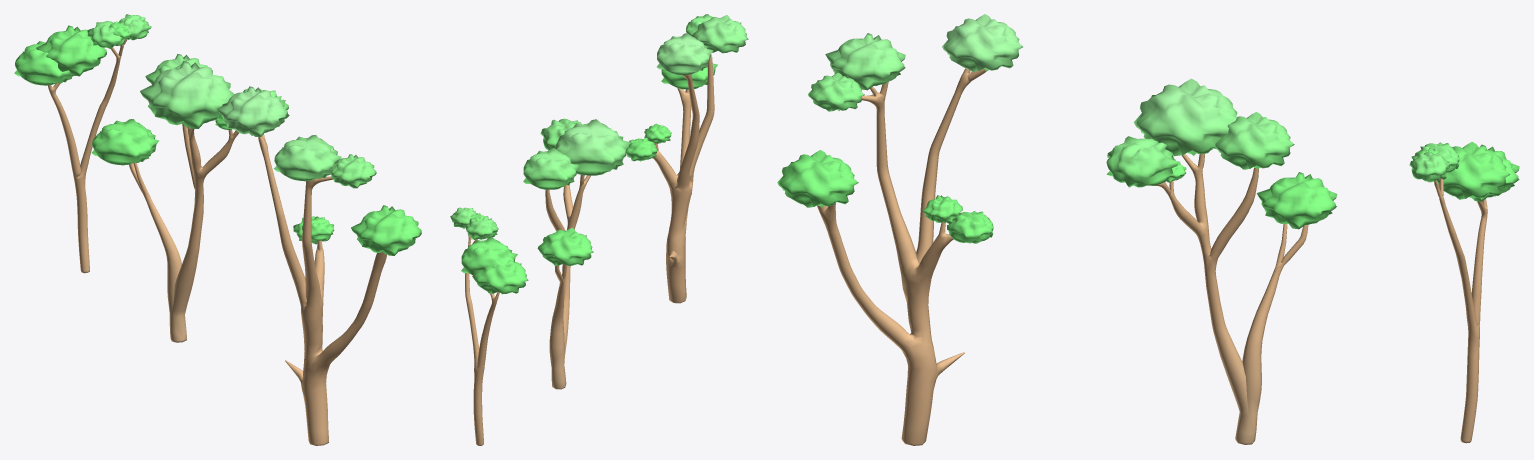
Rendered from Map3_bo6.fbx.
The picture shows the model from 3 angles, left to right: view 1: azimuth 30°, elevation 25°; view 2: azimuth 150°, elevation 25°; view 3: azimuth 270°, elevation 25°; orthographic projection. The views are drawn at different scales.
Visible parts, largest first — view 1: Tree.004, Tree.005, Tree.016; view 2: Tree.004, Tree.005, Tree.016; view 3: Tree.004, Tree.005, Tree.016.
Boxes of the visible parts, x1,y1,x2,y2 form: Tree.004: (217,86,421,445); Tree.005: (91,54,289,342); Tree.016: (14,14,151,273); Tree.004: (627,14,748,303); Tree.005: (523,118,630,389); Tree.016: (450,207,528,445); Tree.004: (777,14,1022,445); Tree.005: (1106,78,1337,444); Tree.016: (1409,142,1519,443).
Bounding box in the file's own units: 316 × 797 × 1345.
Materials: 1 (1 with a texture image).
